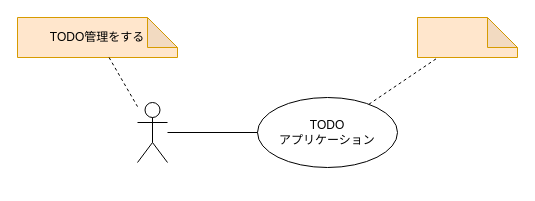
The diagram is 535 pixels wide and 201 high, and some of its shapes have lost their labels. Here are the shapes that lost their labels. From the top down, the centre of each, then its label:
At (467,37): "Webアプリ".
At (152,132): "ユーザー".
